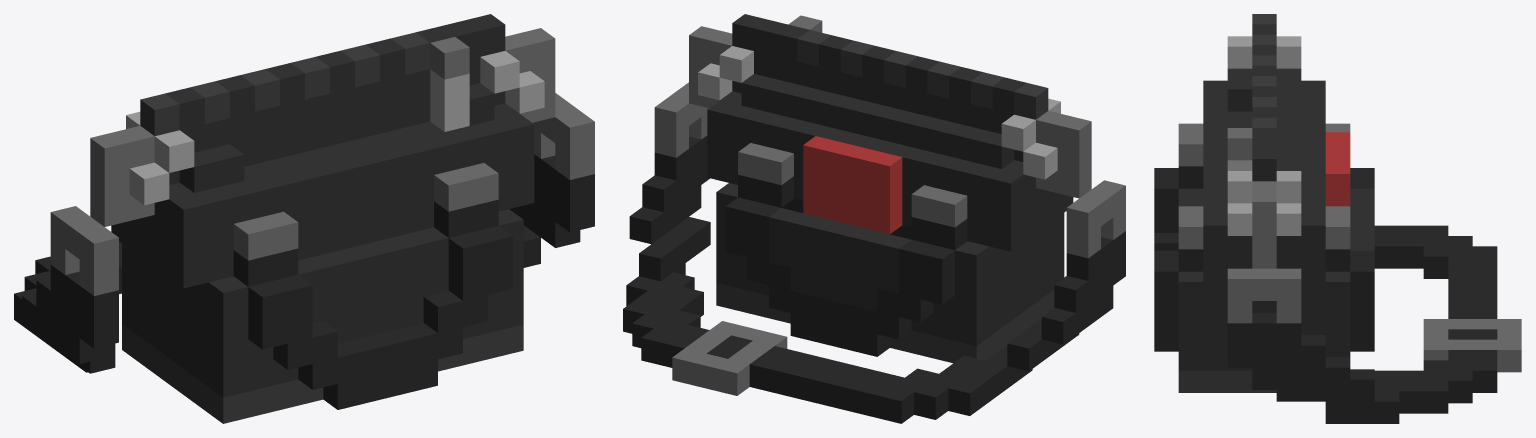
The model's file is leather-satchel.glb.
The picture shows the model from 3 angles, left to right: view 1: azimuth 30°, elevation 25°; view 2: azimuth 150°, elevation 25°; view 3: azimuth 270°, elevation 25°; orthographic projection. The views are drawn at different scales.
Visible parts, largest first — view 1: leather-satchel.vox; view 2: leather-satchel.vox; view 3: leather-satchel.vox.
Boxes of the visible parts, box(x1,y1,x2,y2) form: leather-satchel.vox: box(14, 14, 594, 423); leather-satchel.vox: box(623, 14, 1125, 423); leather-satchel.vox: box(1154, 14, 1521, 423).
Size of the model in its own units: 2 by 1.1 by 1.5.
1 material, 1 textured.
